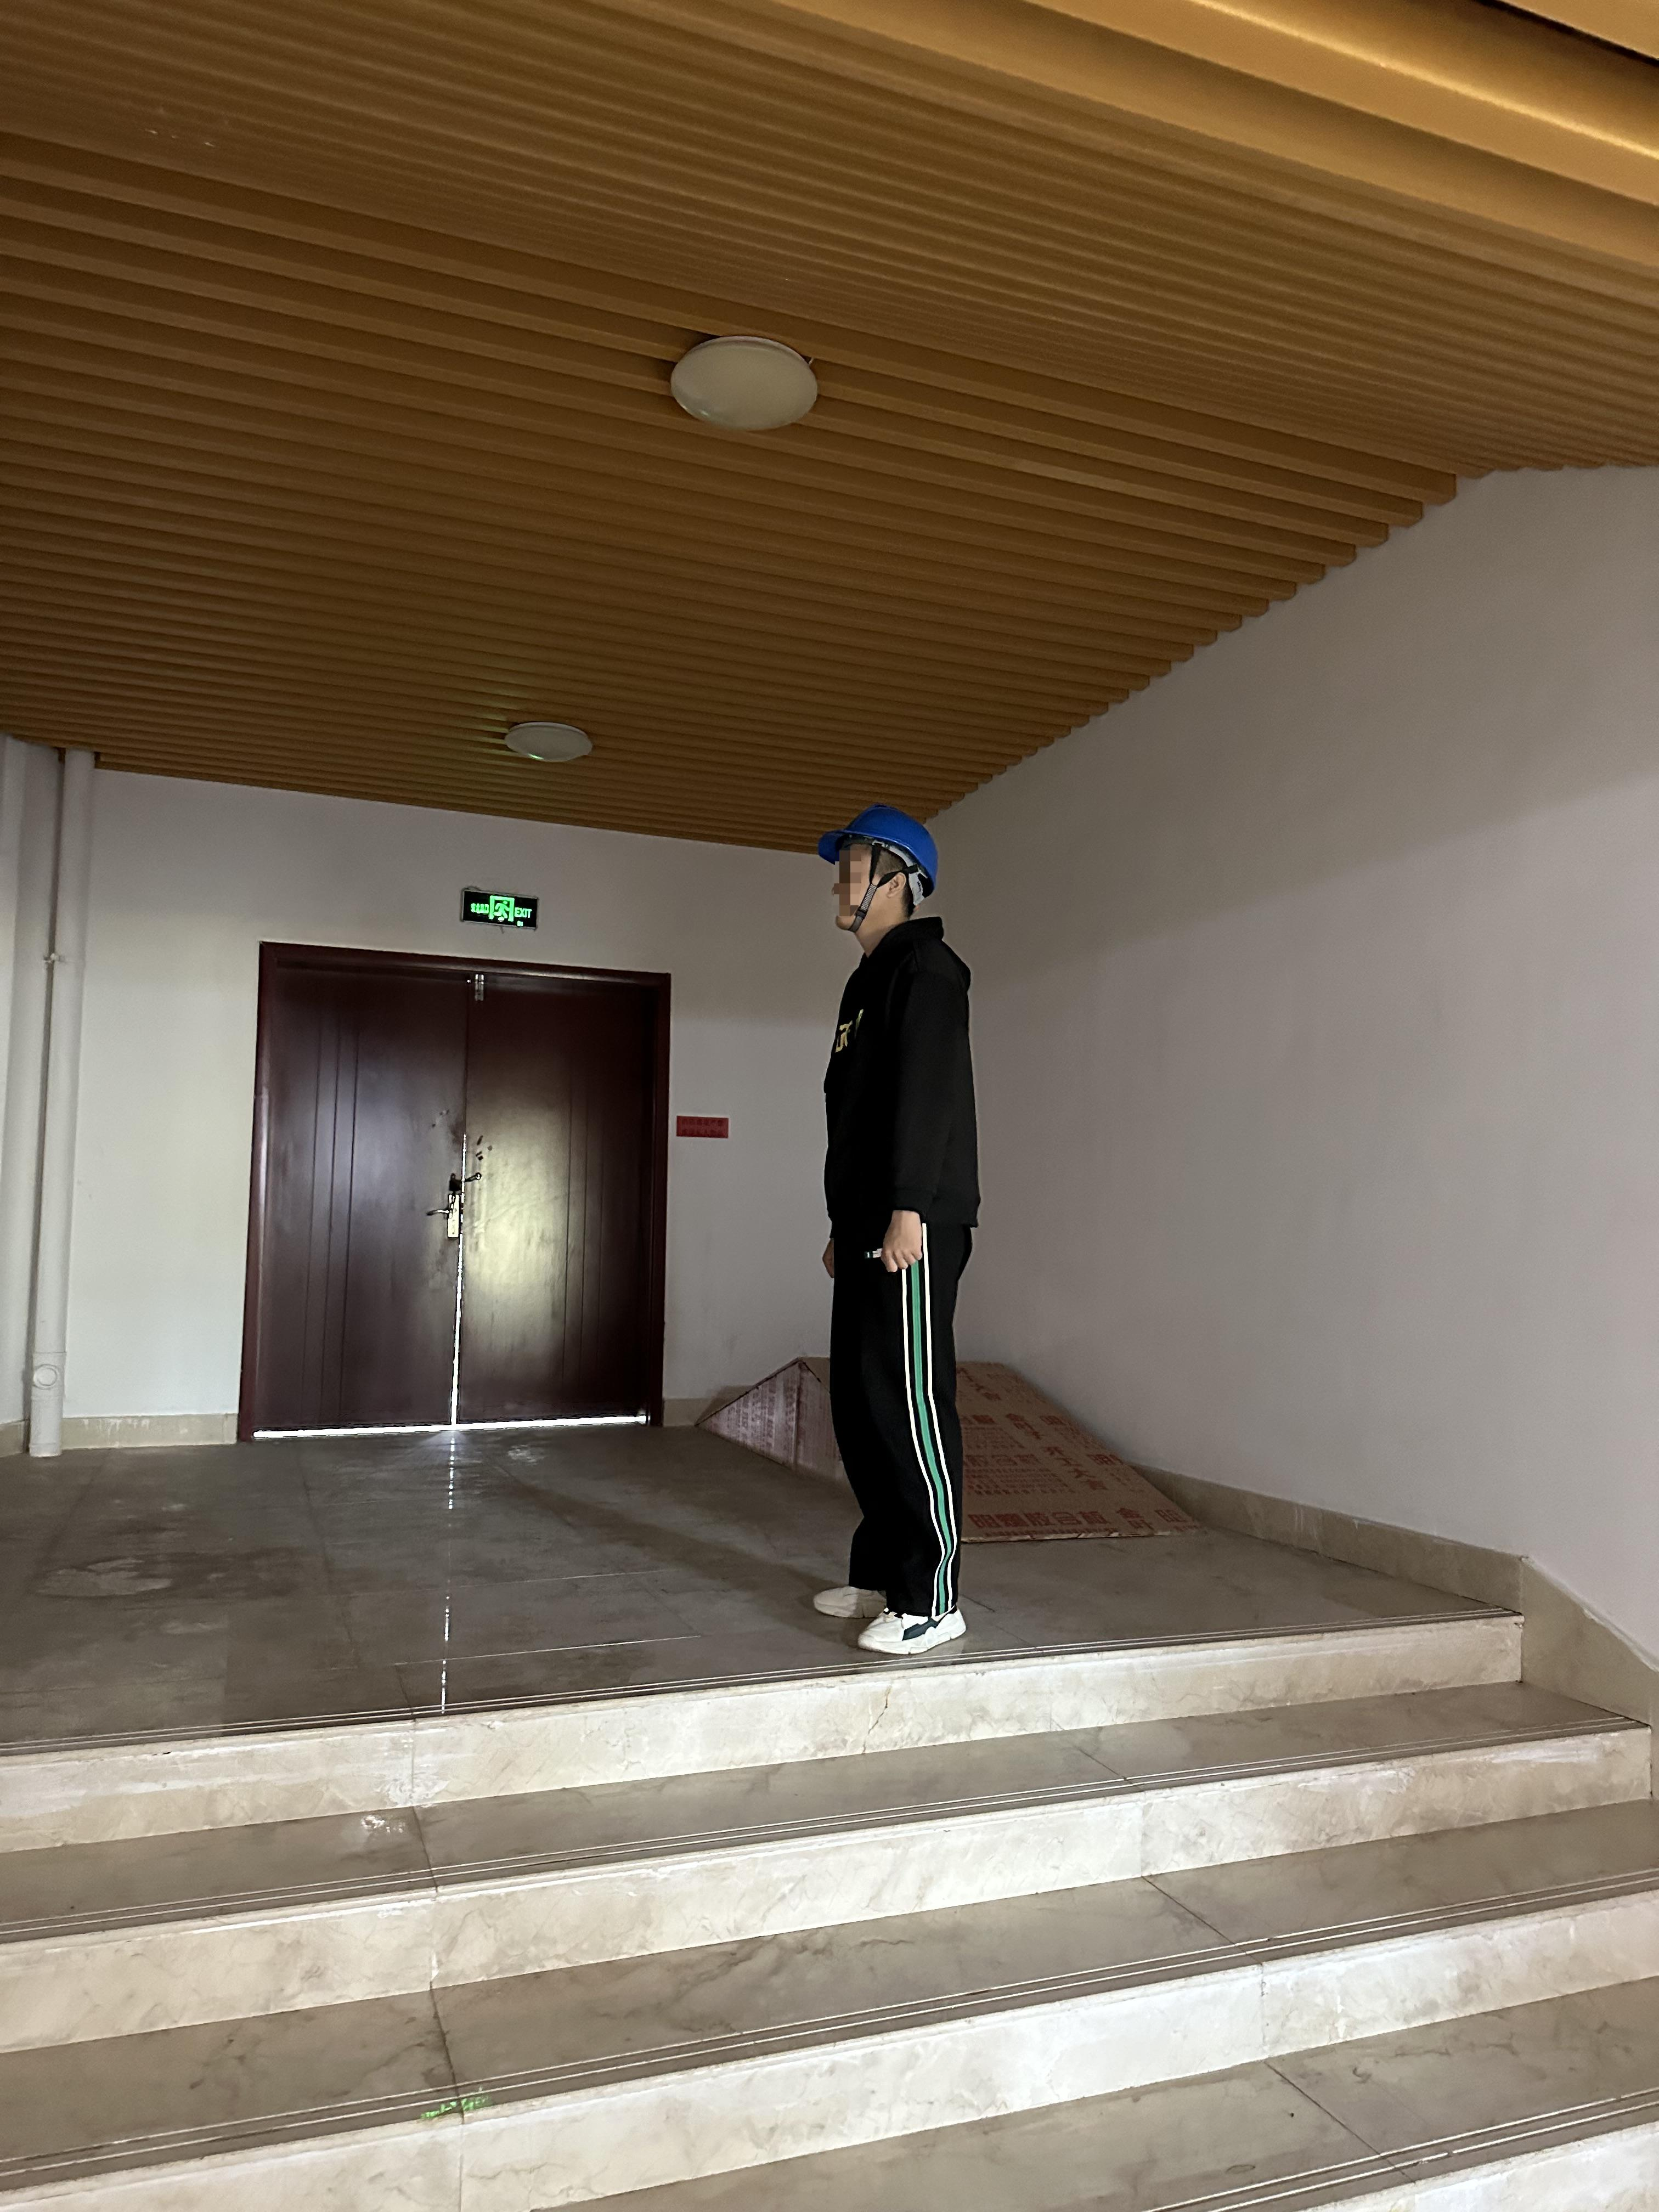halt: (819, 808, 938, 944)
outear: (870, 855, 913, 920)
